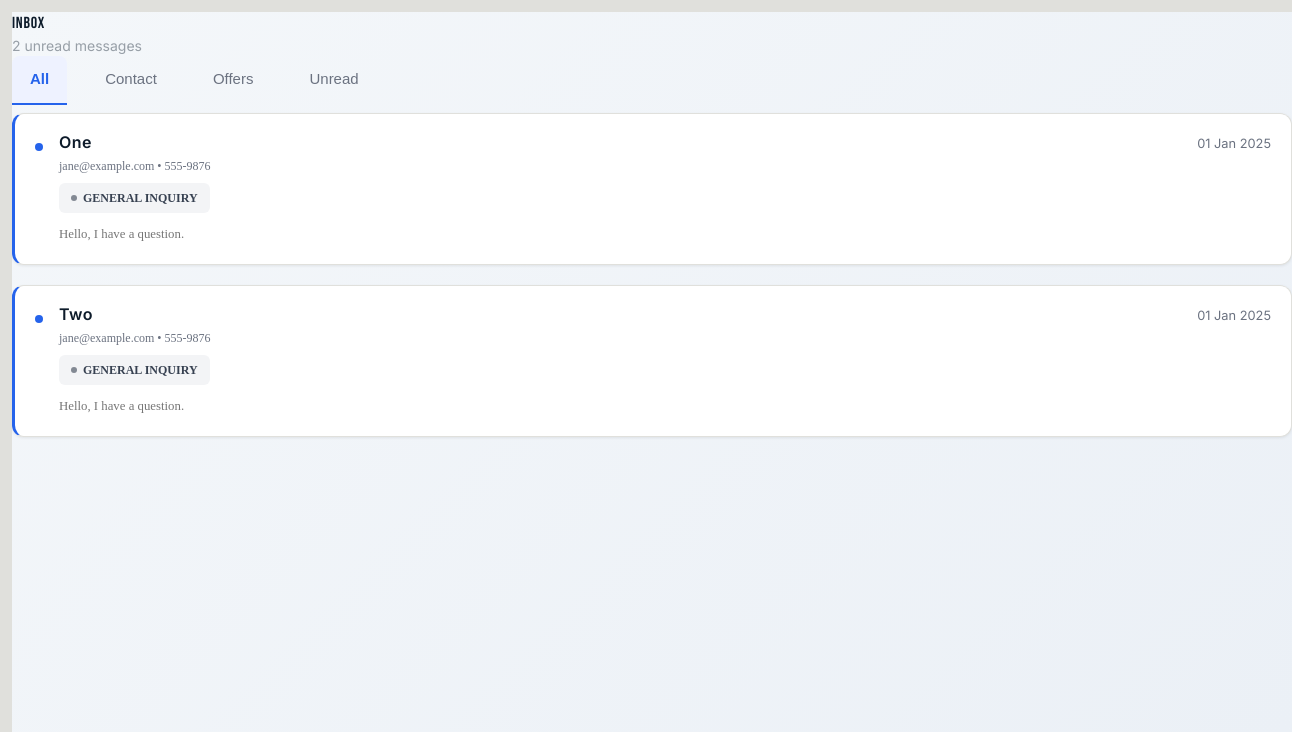
it: AdminMessages - Backend Integration › Mark Read / Unread › the unread badge count stays consistent with the visible unread records after marking read
The width and height of the screenshot is (1292, 732).
Check: the text "2 unread messages" is shown, box [12,37,142,54]
Click the text "One" at (76, 142), box [59,134,92,150]
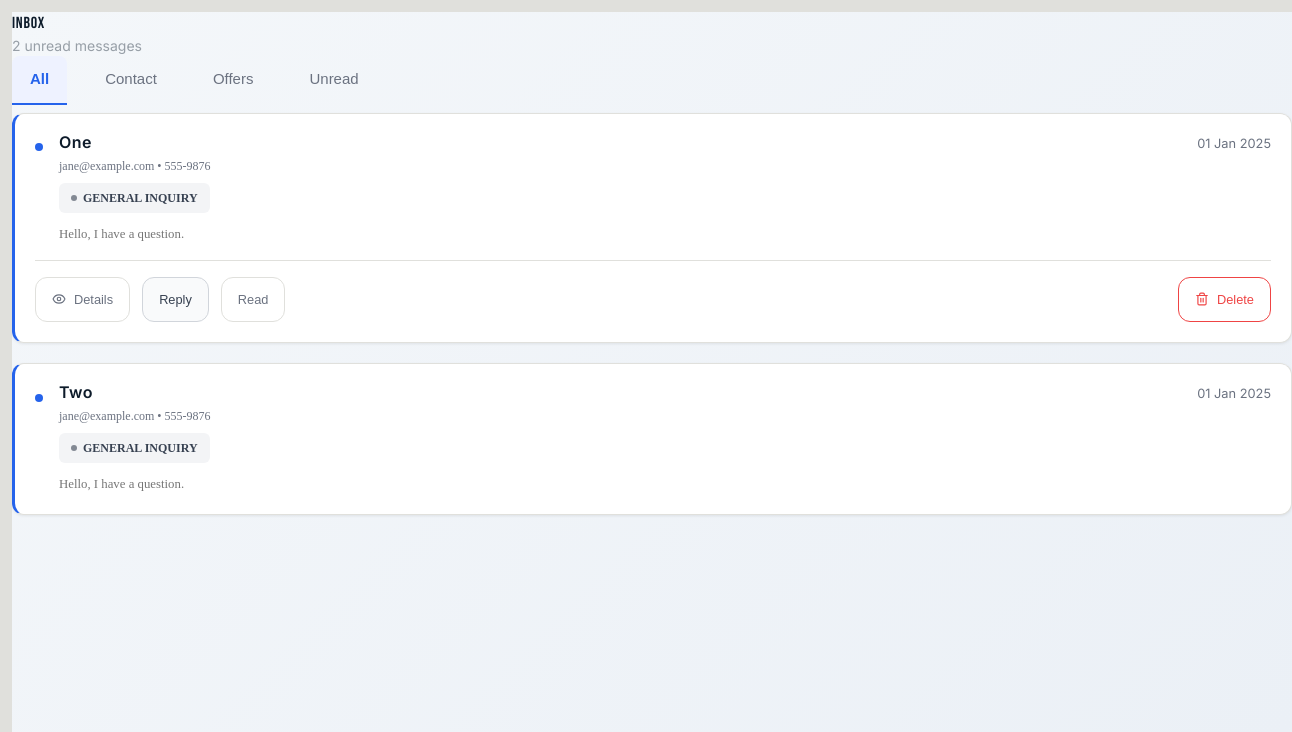
Click the button with id "admin-messages-read-button-0" at (253, 300), box [221,277,285,322]
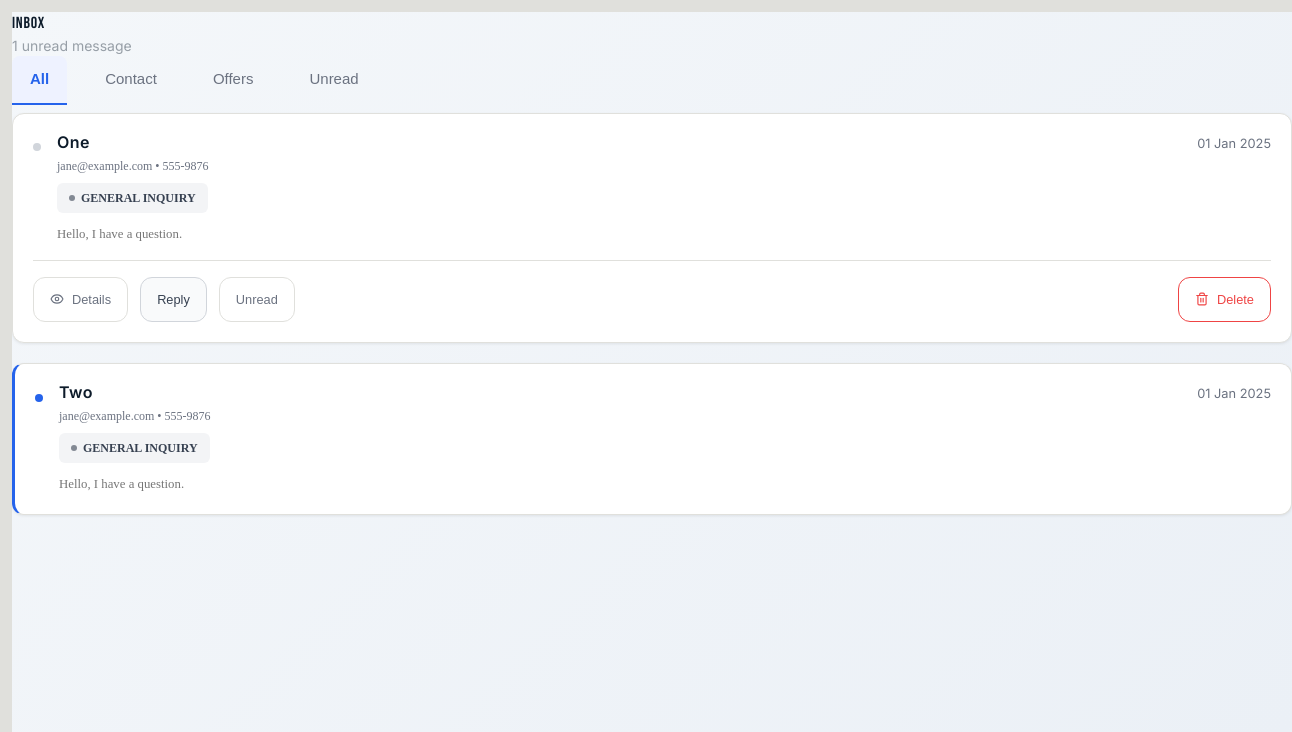
Check: the text "1 unread message" is shown, box [12,37,132,54]
